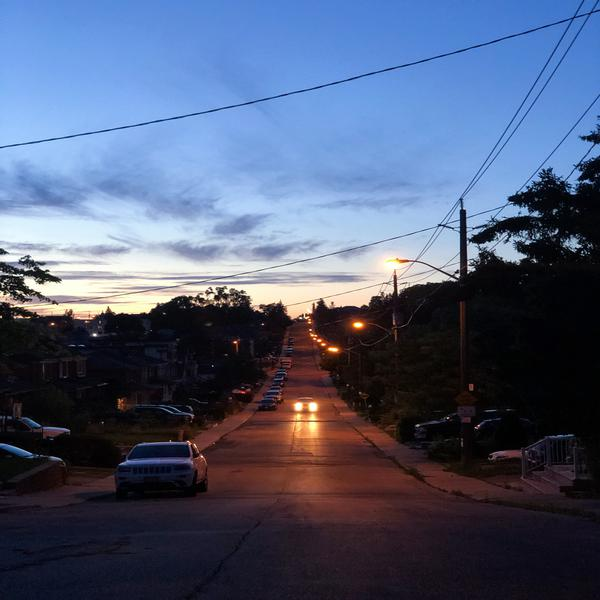utility_pole: (435, 192, 488, 251)
